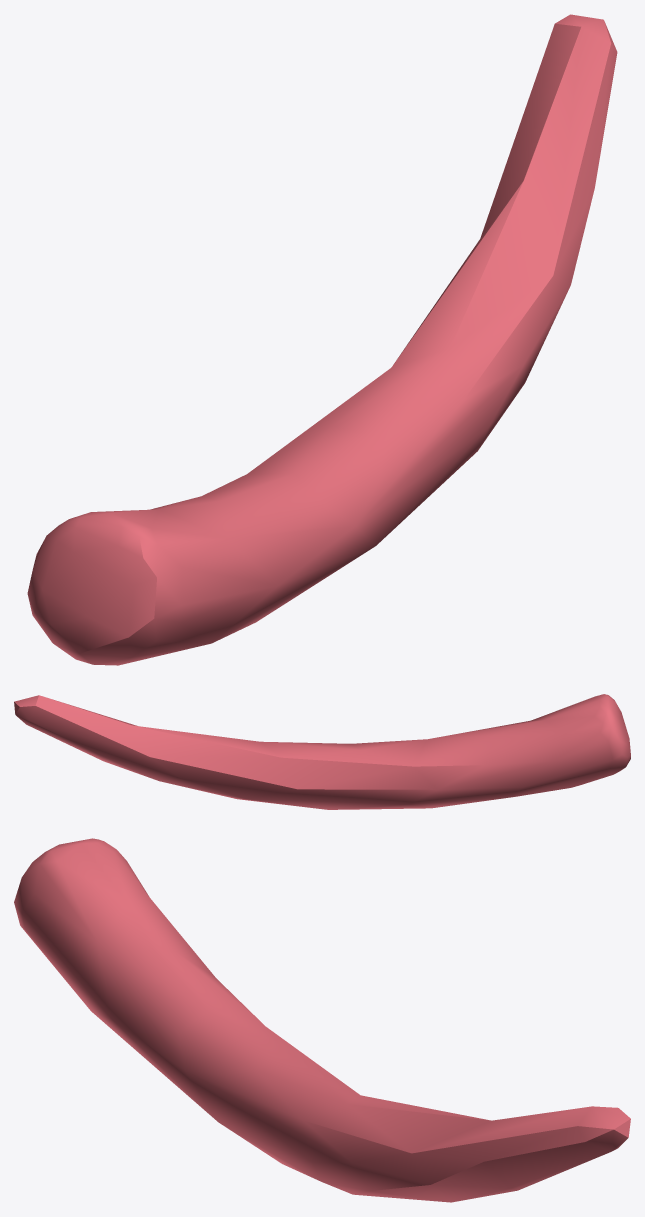
The model's file is fma8639_fj2900.glb.
3 views of the same model, one above another, from view 1: azimuth 30°, elevation 25°; view 2: azimuth 150°, elevation 25°; view 3: azimuth 270°, elevation 25° (orthographic). The views are drawn at different scales.
Parts seen in each view (by area): view 1: FMA8639_FJ2900; view 2: FMA8639_FJ2900; view 3: FMA8639_FJ2900.
Part boxes in pixels (x1,y1,x2,y2): FMA8639_FJ2900: (27, 14, 617, 665); FMA8639_FJ2900: (14, 694, 630, 809); FMA8639_FJ2900: (14, 838, 630, 1202).
Bounding box in the file's own units: 0.0239 × 0.00672 × 0.0181.
